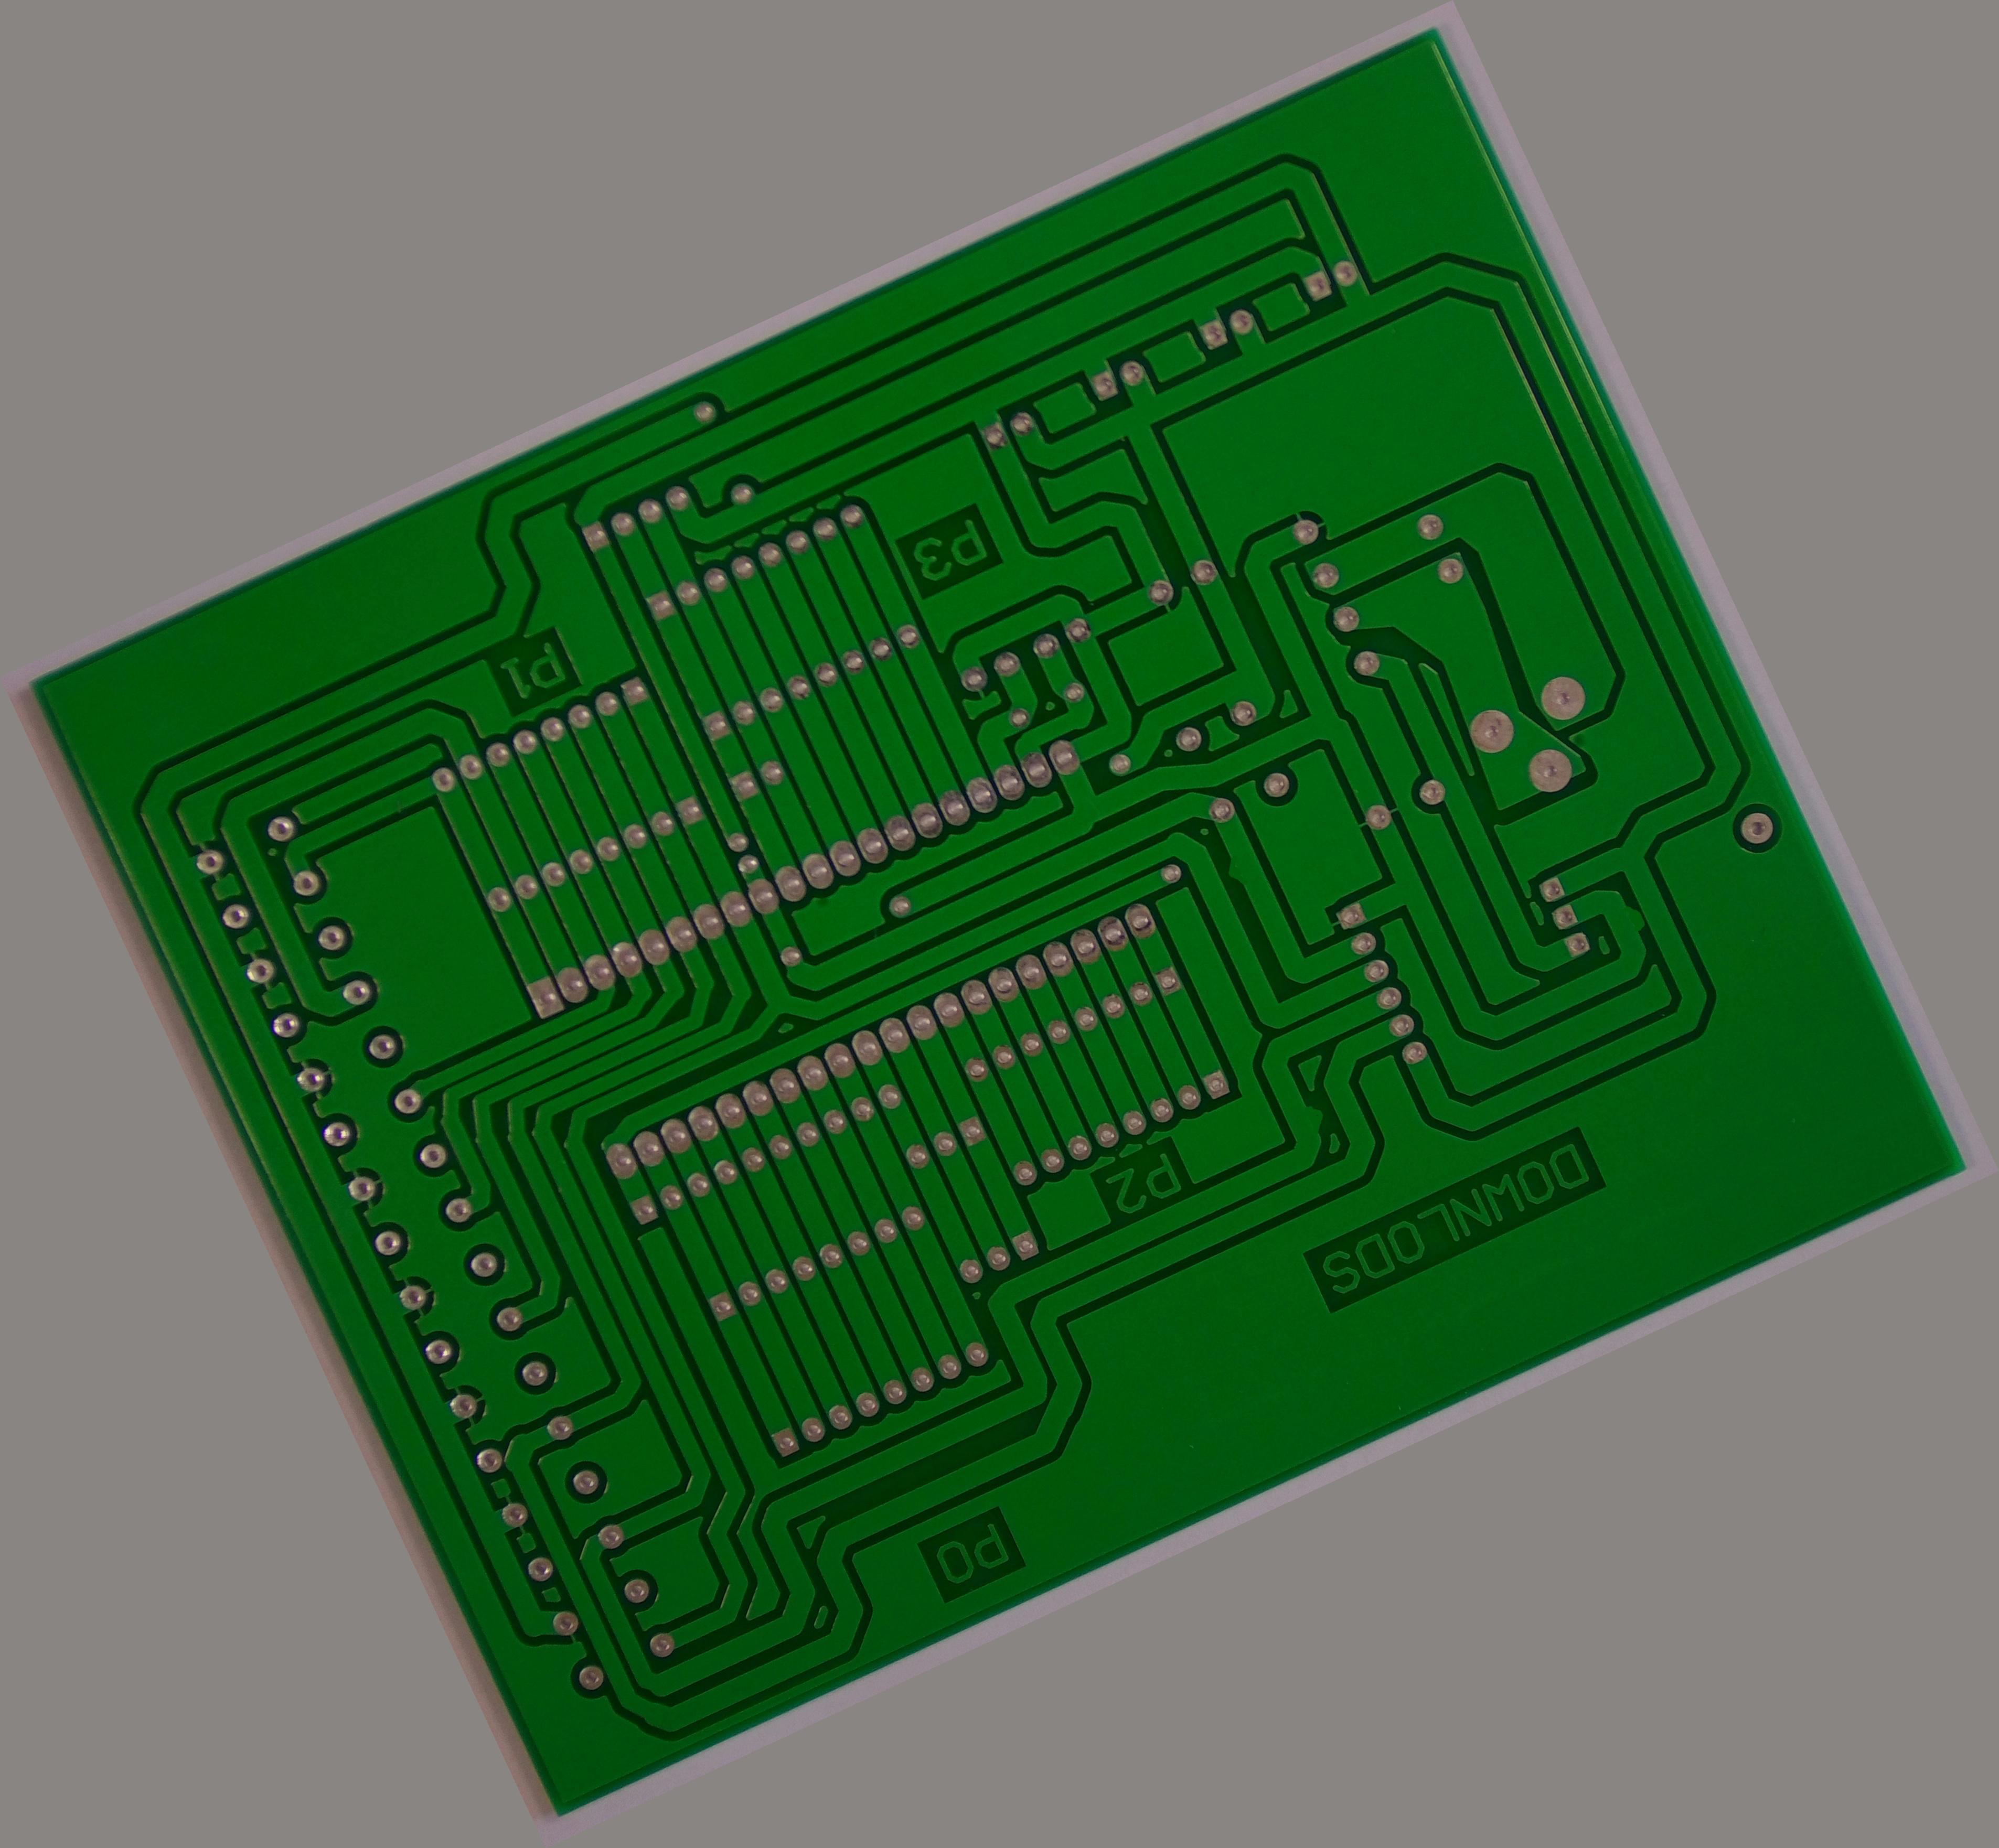spur: (1214, 842, 1262, 894), (1611, 893, 1656, 947), (1292, 1093, 1336, 1145)
